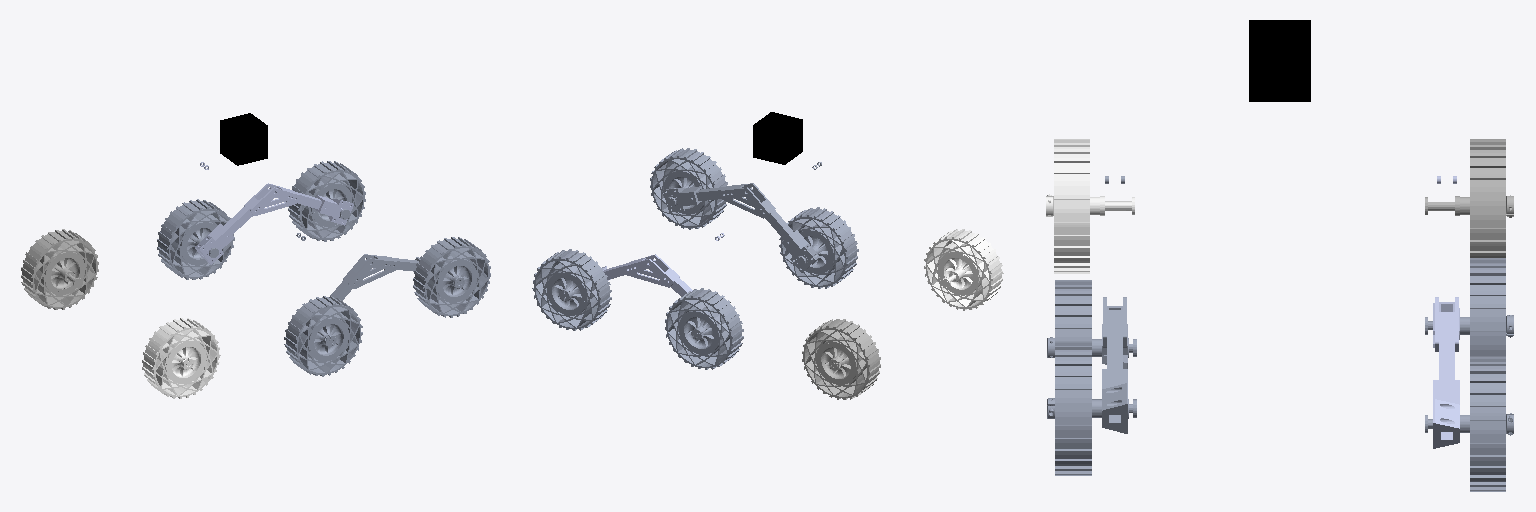
robot.urdf — rover:
<?xml version="1.0"?>
<robot name="rover">
  <link name="base_link"/>
  <joint name="base_link_joint" type="fixed">
    <parent link="base_link"/>
    <child link="chassis"/>
    <origin xyz="0 0 0" rpy="0 0 0"/>
  </joint>

  <link name="chassis">
    <inertial>
      <origin
        xyz="-0.0584197742528739 -1.87173429318394E-05 0.100048316721529"
        rpy="0 0 0" />
      <mass value="22.9702313159612" />
      <inertia
        ixx="0.141165258251768"
        ixy="1.40109430878558E-06"
        ixz="-0.00149697070123729"
        iyy="0.198690083301802"
        iyz="-3.79691320033631E-07"
        izz="0.291025448460444" />
    </inertial>
    <visual>
      <origin xyz="0 0 0" rpy="0 0 0" />
      <geometry>
        <mesh filename="package://rover_description/meshes/chassis.STL" />
      </geometry>
      <material name="">
        <color rgba="0.650980392156863 0.619607843137255 0.588235294117647 1" />
      </material>
    </visual>
    <collision>
      <origin xyz="-0.058 0 0.10" rpy="0 0 0" />
      <geometry>
        <box size="0.75 0.45 0.28" />
      </geometry>
    </collision>
  </link>

  <link name="left_hub_link">
    <inertial>
      <origin xyz="0.0043509 0.011495 -0.086762" rpy="0 0 0" />
      <mass value="0.43743" />
      <inertia
        ixx="0.00032323" ixy="2.3773E-07" ixz="1.7929E-05"
        iyy="0.00098519" iyz="-4.7612E-06" izz="0.00077528" />
    </inertial>
    <visual>
      <origin xyz="0 0 0" rpy="0 0 0" />
      <geometry>
        <mesh filename="package://rover_description/meshes/left_hub_link.STL" />
      </geometry>
      <material name="">
        <color rgba="0.79216 0.81961 0.93333 1" />
      </material>
    </visual>
    <collision>
      <origin xyz="0 0.005 -0.06" rpy="0 0 0" />
      <geometry>
        <box size="0.08 0.06 0.18" />
      </geometry>
    </collision>
  </link>
  <joint name="left_hub_joint" type="revolute">
    <origin xyz="0.24617 0.25899 -0.02379" rpy="0 0 0" />
    <parent link="chassis" />
    <child link="left_hub_link" />
    <axis xyz="0 -1 0" />
    <limit lower="-3.14" upper="3.14" effort="1" velocity="50" />
  </joint>

  <link name="left_front_wheel">
    <inertial>
      <origin xyz="-1.6989E-06 -0.031111 9.8985E-08" rpy="0 0 0" />
      <mass value="1.1548" />
      <inertia ixx="0.01" ixy="0" ixz="0" iyy="0.01" iyz="0" izz="0.01" />
    </inertial>
    <visual>
      <origin xyz="0 0 0" rpy="0 0 0" />
      <geometry>
        <mesh filename="package://rover_description/meshes/left_front_wheel.STL" />
      </geometry>
      <material name="">
        <color rgba="0.66667 0.69804 0.76863 1" />
      </material>
    </visual>
    <collision>
      <origin xyz="0 -0.02 0" rpy="1.5708 0 0" />
      <geometry>
        <cylinder radius="0.0975" length="0.06" />
      </geometry>
    </collision>
  </link>
  <joint name="left_front_joint" type="continuous">
    <origin xyz="0.217263894918702 0.109798 -0.111676144229464" rpy="0 0 0" />
    <parent link="left_hub_link" />
    <child link="left_front_wheel" />
    <axis xyz="0 -1 0" />
    <limit lower="0" upper="0" effort="22" velocity="57" />
  </joint>

  <link name="left_mid_wheel">
    <inertial>
      <origin xyz="9.3367E-07 -0.031111 1.4224E-06" rpy="0 0 0" />
      <mass value="1.1548" />
      <inertia ixx="0.01" ixy="0" ixz="0" iyy="0.01" iyz="0" izz="0.01" />
    </inertial>
    <visual>
      <origin xyz="0 0 0" rpy="0 0 0" />
      <geometry>
        <mesh filename="package://rover_description/meshes/left_mid_wheel.STL" />
      </geometry>
      <material name="">
        <color rgba="0.66667 0.69804 0.76863 1" />
      </material>
    </visual>
    <collision>
      <origin xyz="0 -0.02 0" rpy="1.5708 0 0" />
      <geometry>
        <cylinder radius="0.0975" length="0.06" />
      </geometry>
    </collision>
  </link>
  <joint name="left_mid_joint" type="continuous">
    <origin xyz="-0.205346325358771 0.109798 -0.13231798021001" rpy="0 0 0" />
    <parent link="left_hub_link" />
    <child link="left_mid_wheel" />
    <axis xyz="0 -1 0" />
    <limit lower="0" upper="0" effort="22" velocity="57" />
  </joint>

  <link name="right_hub_link">
    <inertial>
      <origin
        xyz="0.0174630738404854 -0.00831974620024573 -0.0850476178756101"
        rpy="0 0 0" />
      <mass value="0.437428680791758" />
      <inertia
        ixx="0.00032823008462876" ixy="-9.45568218961581E-07" ixz="-5.05577889254412E-05"
        iyy="0.000985186594170562" iyz="4.67237730248651E-06" izz="0.000770278551890062" />
    </inertial>
    <visual>
      <origin xyz="0 0 0" rpy="0 0 0" />
      <geometry>
        <mesh filename="package://rover_description/meshes/right_hub_link.STL" />
      </geometry>
      <material name="">
        <color rgba="0.666666666666667 0.698039215686274 0.768627450980392 1" />
      </material>
    </visual>
    <collision>
      <origin xyz="0.01 -0.01 -0.06" rpy="0 0 0" />
      <geometry>
        <box size="0.08 0.06 0.18" />
      </geometry>
    </collision>
  </link>
  <joint name="right_hub_joint" type="revolute">
    <origin xyz="0.24617 -0.25899 -0.02379" rpy="0 0 0" />
    <parent link="chassis" />
    <child link="right_hub_link" />
    <axis xyz="0 -1 0" />
    <limit lower="-3.14" upper="3.14" effort="1" velocity="50" />
  </joint>

  <link name="right_front_wheel">
    <inertial>
      <origin xyz="-1.2563E-06 0.031111 1.1477E-06" rpy="0 0 0" />
      <mass value="1.1548" />
      <inertia ixx="0.01" ixy="0" ixz="0" iyy="0.01" iyz="0" izz="0.01" />
    </inertial>
    <visual>
      <origin xyz="0 0 0" rpy="0 0 0" />
      <geometry>
        <mesh filename="package://rover_description/meshes/right_front_wheel.STL" />
      </geometry>
      <material name="">
        <color rgba="0.66667 0.69804 0.76863 1" />
      </material>
    </visual>
    <collision>
      <origin xyz="0 0.02 0" rpy="1.5708 0 0" />
      <geometry>
        <cylinder radius="0.0975" length="0.06" />
      </geometry>
    </collision>
  </link>
  <joint name="right_front_joint" type="continuous">
    <origin xyz="0.23167 -0.10662 -0.077493" rpy="0 0 0" />
    <parent link="right_hub_link" />
    <child link="right_front_wheel" />
    <axis xyz="0 -1 0" />
    <limit lower="0" upper="0" effort="22" velocity="57" />
  </joint>

  <link name="right_mid_wheel">
    <inertial>
      <origin xyz="1.6223E-06 0.031111 5.1534E-07" rpy="0 0 0" />
      <mass value="1.1548" />
      <inertia ixx="0.01" ixy="0" ixz="0" iyy="0.01" iyz="0" izz="0.01" />
    </inertial>
    <visual>
      <origin xyz="0 0 0" rpy="0 0 0" />
      <geometry>
        <mesh filename="package://rover_description/meshes/right_mid_wheel.STL" />
      </geometry>
      <material name="">
        <color rgba="0.66667 0.69804 0.76863 1" />
      </material>
    </visual>
    <collision>
      <origin xyz="0 0.02 0" rpy="1.5708 0 0" />
      <geometry>
        <cylinder radius="0.0975" length="0.06" />
      </geometry>
    </collision>
  </link>
  <joint name="right_mid_joint" type="continuous">
    <origin xyz="-0.18294 -0.10662 -0.16188" rpy="0 0 0" />
    <parent link="right_hub_link" />
    <child link="right_mid_wheel" />
    <axis xyz="0 -1 0" />
    <limit lower="0" upper="0" effort="22" velocity="57" />
  </joint>

  <link name="left_back_wheel">
    <inertial>
      <origin xyz="1.002E-06 -0.031111 1.3752E-06" rpy="0 0 0" />
      <mass value="1.1548" />
      <inertia ixx="0.01" ixy="0" ixz="0" iyy="0.01" iyz="0" izz="0.01" />
    </inertial>
    <visual>
      <origin xyz="0 0 0" rpy="0 0 0" />
      <geometry>
        <mesh filename="package://rover_description/meshes/left_back_wheel.STL" />
      </geometry>
      <material name="">
        <color rgba="0.75294 0.75294 0.75294 1" />
      </material>
    </visual>
    <collision>
      <origin xyz="0 -0.02 0" rpy="1.5708 0 0" />
      <geometry>
        <cylinder radius="0.0975" length="0.06" />
      </geometry>
    </collision>
  </link>
  <joint name="left_back_joint" type="continuous">
    <origin xyz="-0.3984 0.36878 -0.14593" rpy="0 0 0" />
    <parent link="chassis" />
    <child link="left_back_wheel" />
    <axis xyz="0 -1 0" />
    <limit lower="0" upper="0" effort="22" velocity="57" />
  </joint>

  <link name="right_back_wheel">
    <inertial>
      <origin xyz="0 0 0" rpy="0 0 0" />
      <mass value="1.1548" />
      <inertia ixx="0.01" ixy="0" ixz="0" iyy="0.01" iyz="0" izz="0.01" />
    </inertial>
    <visual>
      <origin xyz="0 0 0" rpy="0 0 0" />
      <geometry>
        <mesh filename="package://rover_description/meshes/right_back_wheel.STL" />
      </geometry>
      <material name="">
        <color rgba="1 1 1 1" />
      </material>
    </visual>
    <collision>
      <origin xyz="0 0.02 0" rpy="1.5708 0 0" />
      <geometry>
        <cylinder radius="0.0975" length="0.06" />
      </geometry>
    </collision>
  </link>
  <joint name="right_back_joint" type="continuous">
    <origin xyz="-0.398397807372039 -0.368783 -0.145930651885583" rpy="0 0 0" />
    <parent link="chassis" />
    <child link="right_back_wheel" />
    <axis xyz="0 -1 0" />
    <limit lower="0" upper="0" effort="22" velocity="57" />
  </joint>

  <link name="gps_link">
    <inertial>
      <mass value="0.01"/>
      <inertia ixx="0.0001" ixy="0" ixz="0" iyy="0.0001" iyz="0" izz="0.0001"/>
    </inertial>
  </link>
  <joint name="gps_joint" type="fixed">
    <parent link="chassis"/>
    <child link="gps_link"/>
    <origin xyz="0.0 0 0.0" rpy="0 0 0"/>
  </joint>
  <gazebo reference="gps_link">
    <sensor name="navsat" type="gps">
      <always_on>true</always_on>
      <update_rate>10</update_rate>
      <plugin name="gps_controller" filename="libgazebo_ros_gps_sensor.so">
        <ros>
          <namespace>/rover</namespace>
          <remapping>~/out:=gps/fix</remapping>
        </ros>
        <frame_name>gps_link</frame_name>
      </plugin>
    </sensor>
  </gazebo>

  <link name="imu_link">
    <inertial>
      <mass value="0.01"/>
      <inertia ixx="0.0001" ixy="0" ixz="0" iyy="0.0001" iyz="0" izz="0.0001"/>
    </inertial>
  </link>
  <joint name="imu_joint" type="fixed">
    <parent link="chassis"/>
    <child link="imu_link"/>
    <origin xyz="0 0 0" rpy="0 0 0"/>
  </joint>
  <gazebo reference="imu_link">
    <sensor name="imu_sensor" type="imu">
      <always_on>true</always_on>
      <update_rate>50</update_rate>
      <imu>
        <angular_velocity>
          <x>
            <noise type="gaussian">
              <mean>0.0</mean>
              <stddev>0.0</stddev>
            </noise>
          </x>
          <y>
            <noise type="gaussian">
              <mean>0.0</mean>
              <stddev>0.0</stddev>
            </noise>
          </y>
          <z>
            <noise type="gaussian">
              <mean>0.0</mean>
              <stddev>0.0</stddev>
            </noise>
          </z>
        </angular_velocity>
        <linear_acceleration>
          <x>
            <noise type="gaussian">
              <mean>0.0</mean>
              <stddev>0.0</stddev>
            </noise>
          </x>
          <y>
            <noise type="gaussian">
              <mean>0.0</mean>
              <stddev>0.0</stddev>
            </noise>
          </y>
          <z>
            <noise type="gaussian">
              <mean>0.0</mean>
              <stddev>0.0</stddev>
            </noise>
          </z>
        </linear_acceleration>
      </imu>
      <plugin name="imu_controller" filename="libgazebo_ros_imu_sensor.so">
        <ros>
          <namespace>/rover</namespace>
          <remapping>~/out:=imu/data</remapping>
        </ros>
        <frame_name>imu_link</frame_name>
      </plugin>
    </sensor>
  </gazebo>

  <link name="camera_link">
    <visual>
      <geometry>
        <box size="0.1 0.1 0.1"/>
      </geometry>
      <material name="black">
        <color rgba="0 0 0 1"/>
      </material>
    </visual>
    <collision>
      <geometry>
        <box size="0.02 0.05 0.03"/>
      </geometry>
    </collision>
    <inertial>
      <mass value="0.05"/>
      <inertia ixx="0.0001" ixy="0" ixz="0" iyy="0.0001" iyz="0" izz="0.0001"/>
    </inertial>
  </link>
  <joint name="camera_joint" type="fixed">
    <parent link="chassis"/>
    <child link="camera_link"/>
    <origin xyz="0.0 0 0.3" rpy="0 0 3.1416"/>
  </joint>
  <link name="camera_optical_link"/>
  <joint name="camera_optical_joint" type="fixed">
    <parent link="camera_link"/>
    <child link="camera_optical_link"/>
    <origin xyz="0 0 0" rpy="-1.5708 0 1.5708"/>
  </joint>
  <gazebo reference="camera_link">
    <sensor type="depth" name="depth_camera">
      <update_rate>30</update_rate>
      <camera>
        <horizontal_fov>1.047</horizontal_fov>
        <image>
          <width>640</width>
          <height>480</height>
          <format>R8G8B8</format>
        </image>
        <clip>
          <near>0.1</near>
          <far>10.0</far>
        </clip>
      </camera>
      <plugin name="depth_camera_plugin" filename="libgazebo_ros_camera.so">
        <ros>
          <namespace>/camera</namespace>
          <remapping>image_raw:=rgb/image_raw</remapping>
          <remapping>depth/image_raw:=depth/image_raw</remapping>
          <remapping>camera_info:=rgb/camera_info</remapping>
          <remapping>depth/camera_info:=depth/camera_info</remapping>
          <remapping>points:=depth/points</remapping>
        </ros>
        <camera_name>depth_camera</camera_name>
        <frame_name>camera_optical_link</frame_name>
        <hack_baseline>0.07</hack_baseline>
        <min_depth>0.1</min_depth>
        <max_depth>10.0</max_depth>
      </plugin>
    </sensor>
  </gazebo>

  <ros2_control name="Rover" type="system">
    <hardware>
      <plugin>gazebo_ros2_control/GazeboSystem</plugin>
    </hardware>

    <joint name="left_front_joint">
      <command_interface name="velocity"/>
      <state_interface name="position"/>
      <state_interface name="velocity"/>
    </joint>

    <joint name="left_mid_joint">
      <command_interface name="velocity"/>
      <state_interface name="position"/>
      <state_interface name="velocity"/>
    </joint>

    <joint name="left_back_joint">
      <command_interface name="velocity"/>
      <state_interface name="position"/>
      <state_interface name="velocity"/>
    </joint>

    <joint name="right_front_joint">
      <command_interface name="velocity"/>
      <state_interface name="position"/>
      <state_interface name="velocity"/>
    </joint>

    <joint name="right_mid_joint">
      <command_interface name="velocity"/>
      <state_interface name="position"/>
      <state_interface name="velocity"/>
    </joint>

    <joint name="right_back_joint">
      <command_interface name="velocity"/>
      <state_interface name="position"/>
      <state_interface name="velocity"/>
    </joint>
  </ros2_control>

  <gazebo>
    <plugin name="gazebo_ros2_control" filename="libgazebo_ros2_control.so">
      <parameters>/home/georgexu/rover_t/src/rover_description/config/rover_controller.yaml</parameters>
    </plugin>
  </gazebo>

</robot>

--- Render facts (derived) ---
Views: 3 orthographic renders of the robot side by side, from view 1: azimuth 30°, elevation 25°; view 2: azimuth 150°, elevation 25°; view 3: azimuth 270°, elevation 25°.
Model rover with 14 links and 13 joints (2 revolute, 6 continuous, 5 fixed), rooted at base_link, posed all joints at 0.
Visible links, largest first — view 1: left_back_wheel, right_front_wheel, right_mid_wheel, right_back_wheel, left_mid_wheel, left_front_wheel, left_hub_link, camera_link, right_hub_link; view 2: left_back_wheel, left_mid_wheel, right_back_wheel, left_front_wheel, right_mid_wheel, right_front_wheel, right_hub_link, camera_link, left_hub_link; view 3: right_back_wheel, right_front_wheel, left_front_wheel, camera_link, left_back_wheel, left_mid_wheel, left_hub_link, right_hub_link, right_mid_wheel.
Link boxes in pixels (x1,y1,x2,y2): left_back_wheel: (21,229,98,309); right_front_wheel: (413,237,490,317); right_mid_wheel: (284,296,362,376); right_back_wheel: (142,318,220,398); left_mid_wheel: (157,199,234,279); left_front_wheel: (288,161,365,241); left_hub_link: (195,162,353,264); camera_link: (220,113,267,165); right_hub_link: (296,233,420,300); left_back_wheel: (802,319,880,399); left_mid_wheel: (665,288,743,369); right_back_wheel: (924,229,1003,310); left_front_wheel: (532,249,611,330); right_mid_wheel: (779,207,858,288); right_front_wheel: (650,148,727,229); right_hub_link: (663,162,821,272); camera_link: (753,112,802,164); left_hub_link: (602,233,724,296); right_back_wheel: (1046,139,1134,273); right_front_wheel: (1047,341,1136,475); left_front_wheel: (1425,356,1513,491); camera_link: (1249,20,1310,101); left_back_wheel: (1425,139,1513,257); left_mid_wheel: (1425,258,1513,355); left_hub_link: (1433,176,1459,448); right_hub_link: (1102,176,1128,433); right_mid_wheel: (1047,280,1136,357).
Size in the robot's own frame: 1.1 by 0.7636 by 0.6457 metres.
8 mesh visuals loaded from 9 distinct referenced files (8 binary STL); not drawn: 1 (reference not matched to a file when rendering).
